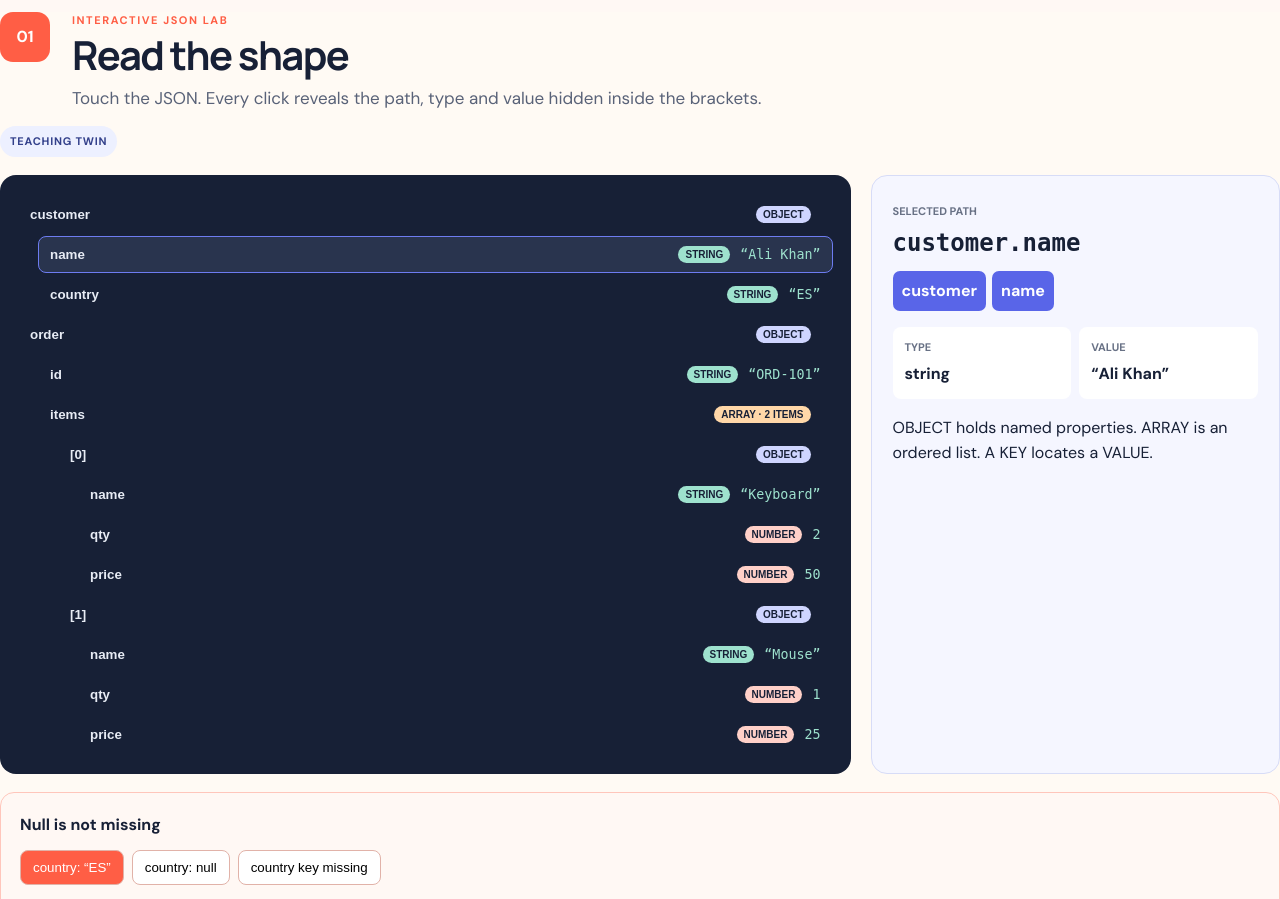
Test case: Lesson 02 interactive JSON explorer › updates the inspected path when a JSON leaf is selected
The image size is (1280, 899).
Click the button named "pricenumber50".
click(106, 575)  # box [78,556,832,593]
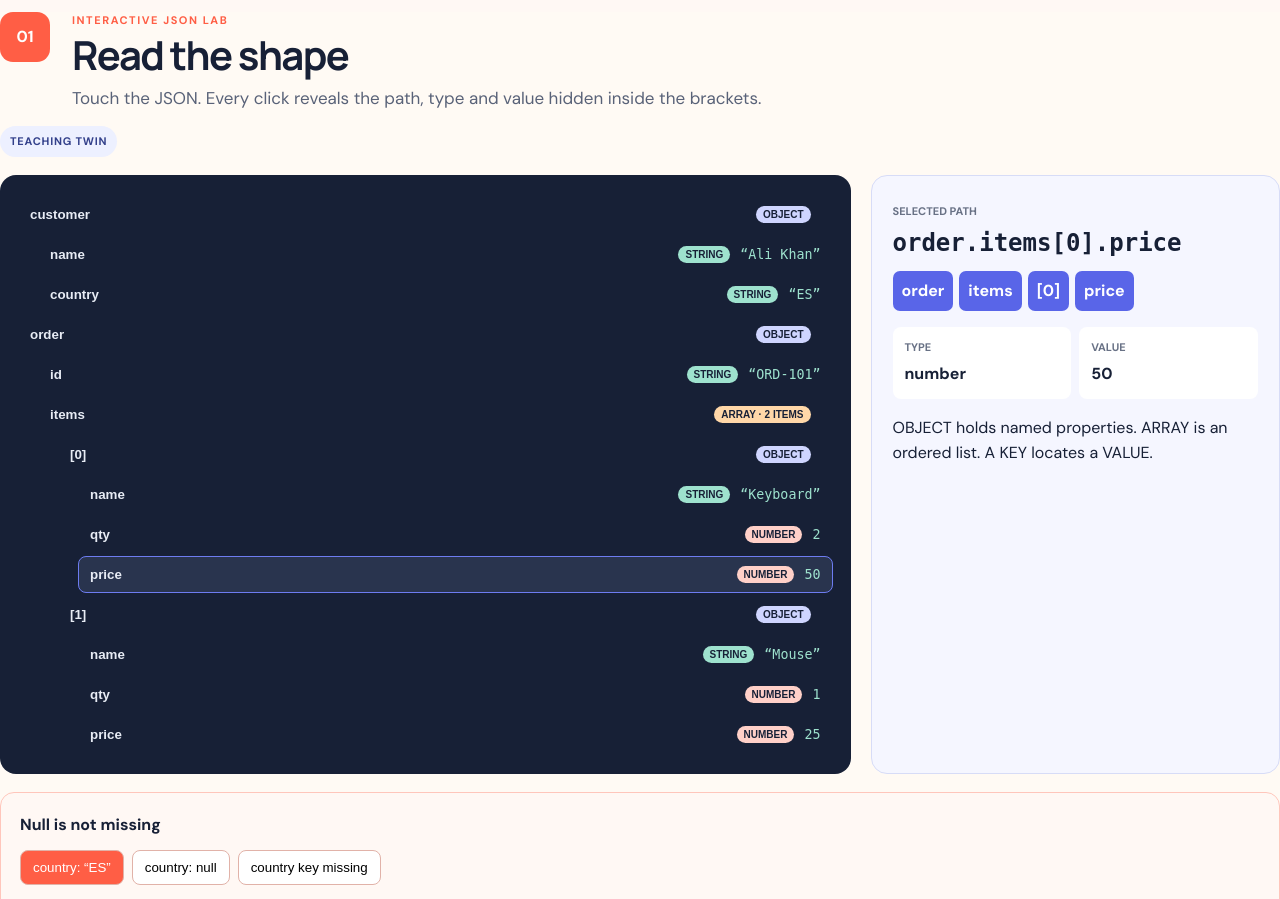
Check: the 2nd text "50" is shown, box [804,567,820,582]
Check: the text "order.items[0].price" is shown, box [892,229,1182,257]
